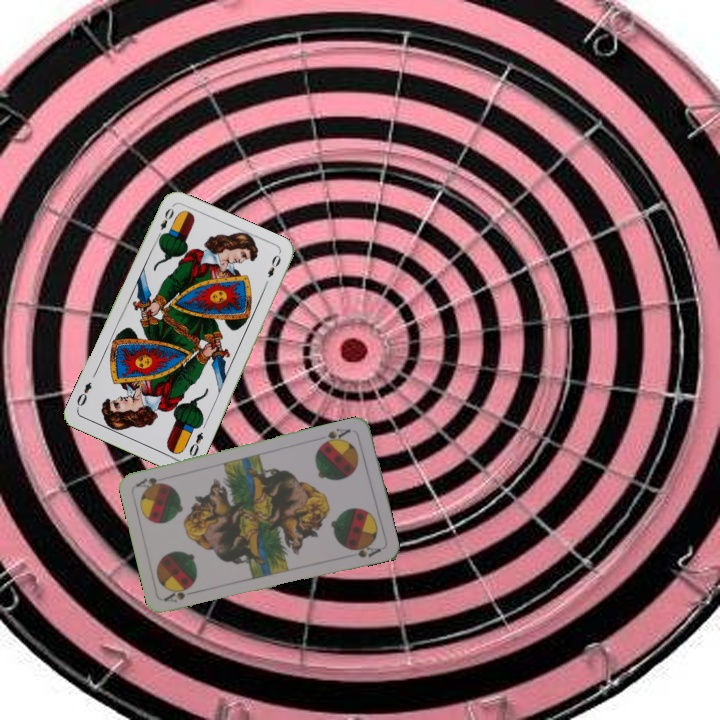EO: (153, 204, 177, 242), (185, 428, 206, 459)
SA: (160, 583, 200, 605), (317, 424, 353, 448)
